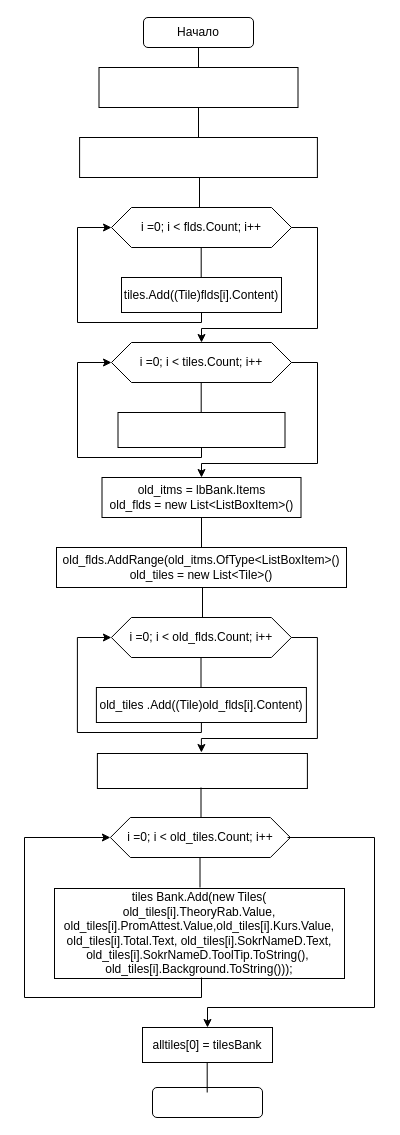
This 400x1135 diagram has some shape labels left out. Each missing label, with the centre of its shape:
"flds.AddRange(itms.OfType<ListBoxItem>() tiles = new List<Tile>()" goes at point 198,157.
"itms = e.OldItems flds = new List<ListBoxItem>()" goes at point 198,87.
"tiles[i].btnThrowOfTile.Click -= BtnThrowOfTile_Click_Bank" goes at point 201,430.
"tilesBank.Clear()" goes at point 201,770.
"Конец" goes at point 207,1102.
